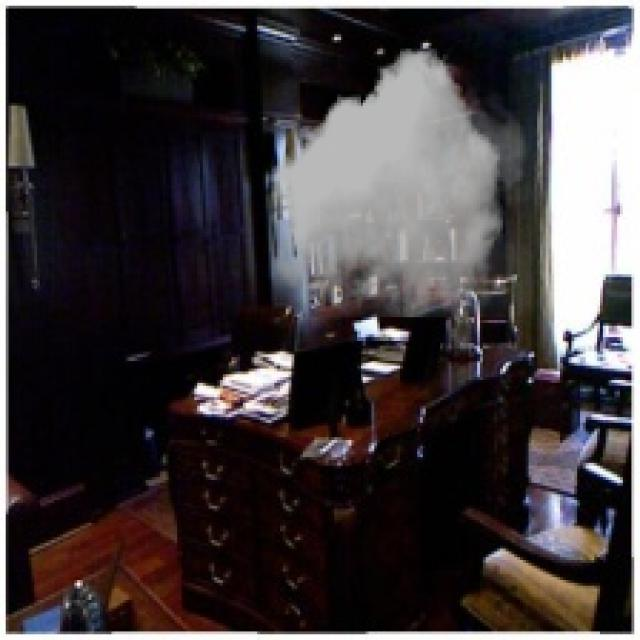smoke: (266, 49, 534, 317)
